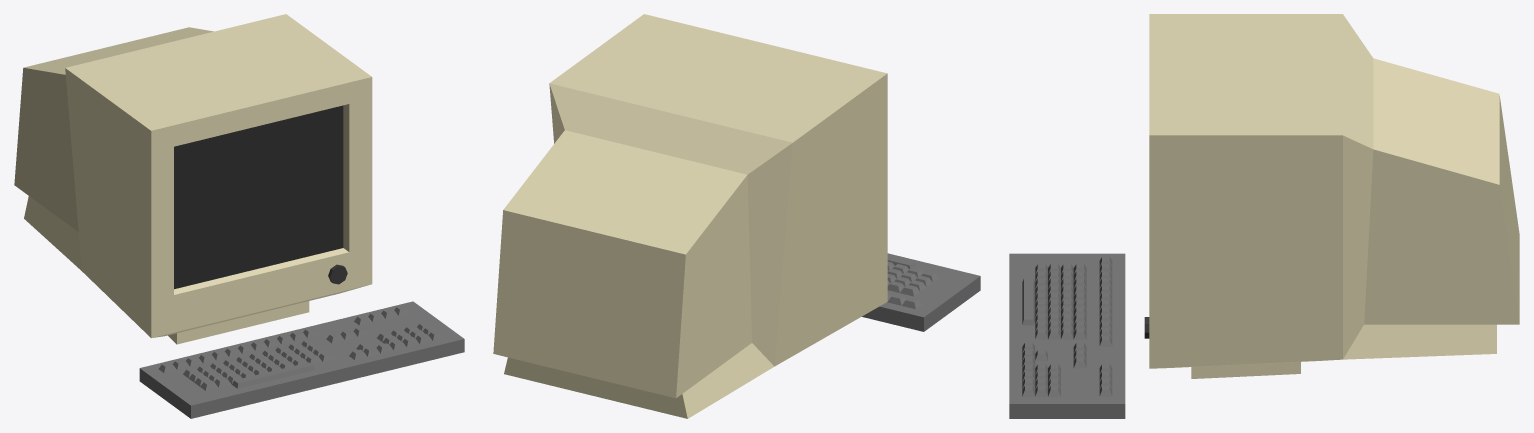
Rendered from Computer_antigo.fbx.
3 renders of one model, left to right at view 1: azimuth 30°, elevation 25°; view 2: azimuth 150°, elevation 25°; view 3: azimuth 270°, elevation 25°, orthographic. The views are drawn at different scales.
Parts seen in each view (by area): view 1: Cube, Cube.002, Cube.003; view 2: Cube, Cube.003; view 3: Cube, Cube.003.
Part boxes in pixels (x1=…): Cube: x1=14, y1=14, x2=372, y2=344; Cube.002: x1=174, y1=105, x2=343, y2=289; Cube.003: x1=139, y1=301, x2=464, y2=418; Cube: x1=493, y1=14, x2=887, y2=418; Cube.003: x1=862, y1=253, x2=980, y2=331; Cube: x1=1149, y1=14, x2=1519, y2=378; Cube.003: x1=1009, y1=253, x2=1125, y2=418.
Size of the model in its own units: 60.12 by 50.01 by 86.23.
